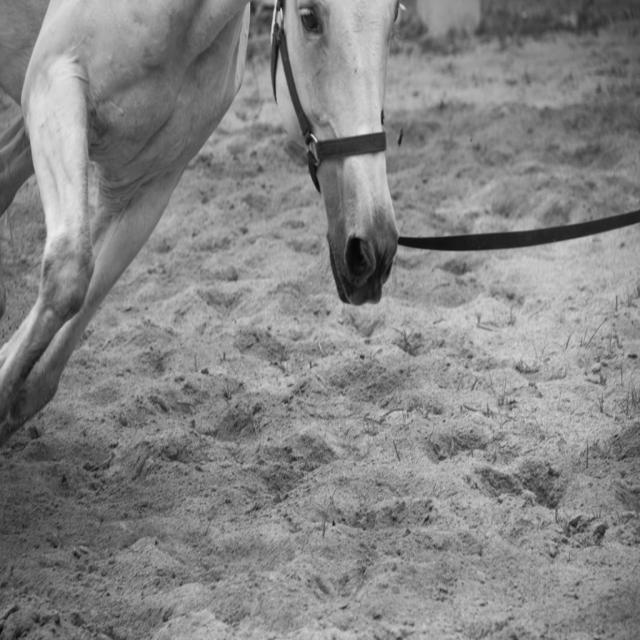Horse: (0, 0, 407, 446)
